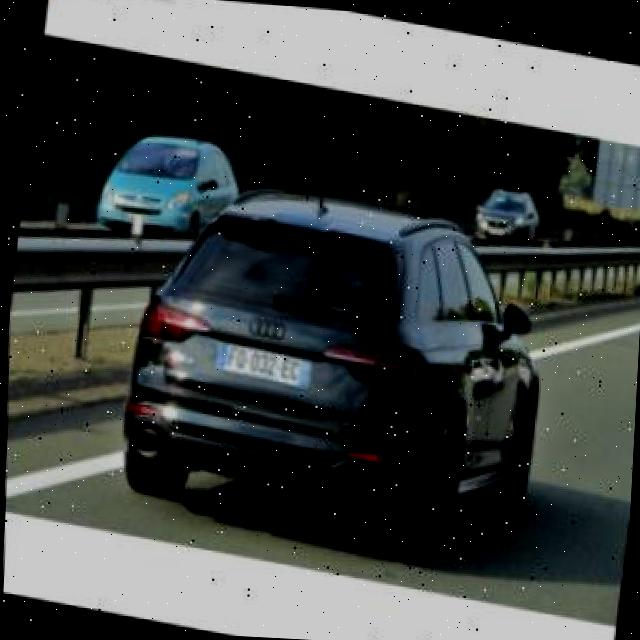Autre: (216, 332, 318, 392)
